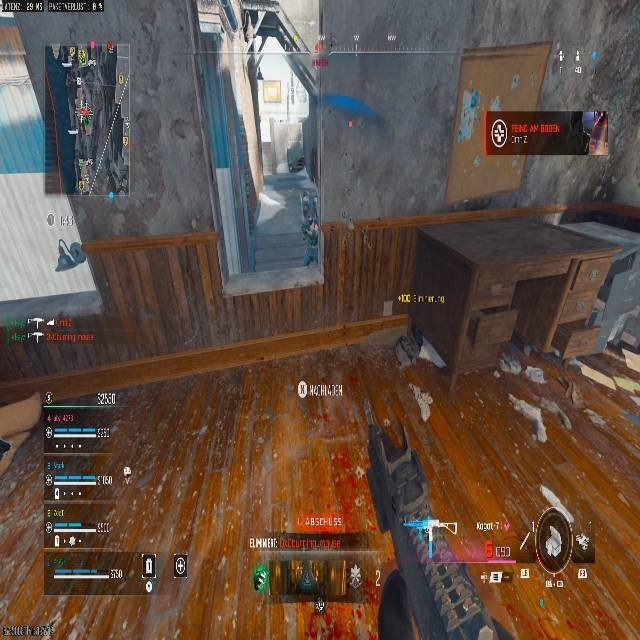player: (259, 141, 322, 267), (300, 217, 319, 266)
